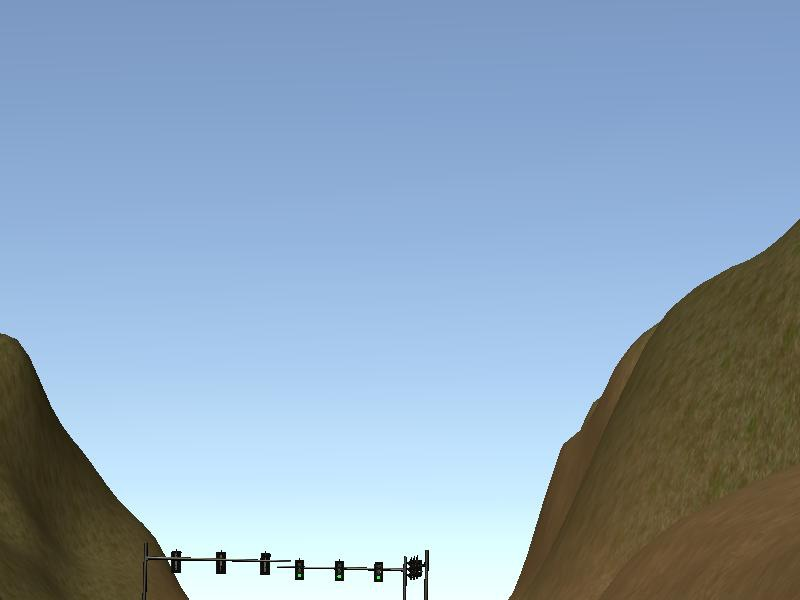green_light: (372, 561, 384, 584), (295, 560, 304, 581), (334, 562, 343, 583)
